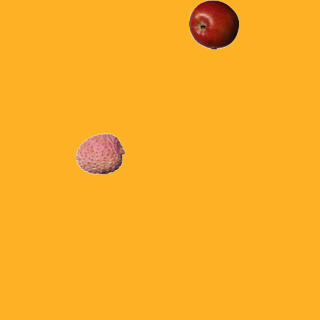Apple Braeburn: (188, 0, 238, 49)
Lychee: (75, 128, 125, 178)
